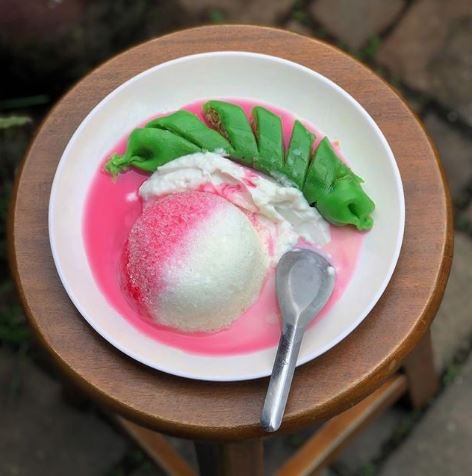es_pisang_ijo: (87, 100, 369, 353)
